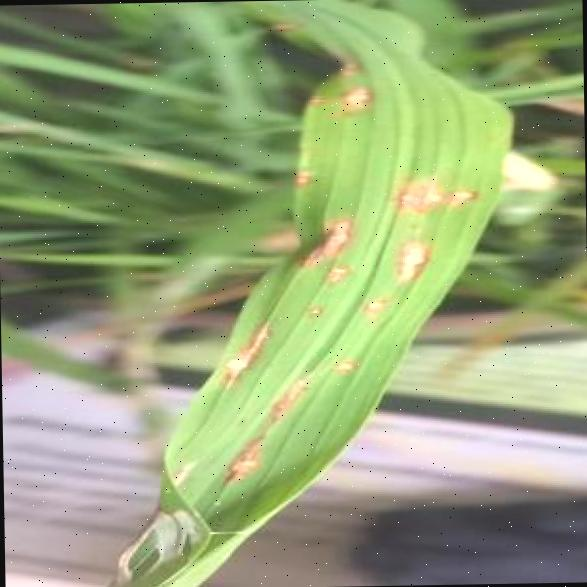Leaf_smut: (278, 200, 368, 274), (208, 296, 286, 381), (190, 423, 282, 493), (234, 373, 331, 433), (385, 166, 480, 214), (376, 227, 435, 286), (322, 40, 378, 92), (328, 65, 378, 119), (348, 278, 396, 332), (290, 78, 338, 124), (274, 152, 322, 196), (290, 290, 334, 331), (316, 257, 362, 295), (315, 345, 360, 381), (269, 6, 309, 40)
